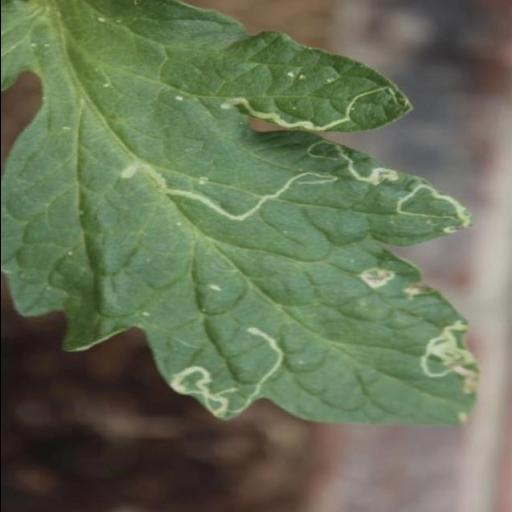Leaf Miner: (0, 0, 480, 425)
